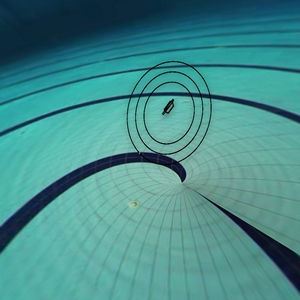circle: (113, 46, 227, 171)
submarine: (158, 97, 181, 120)
